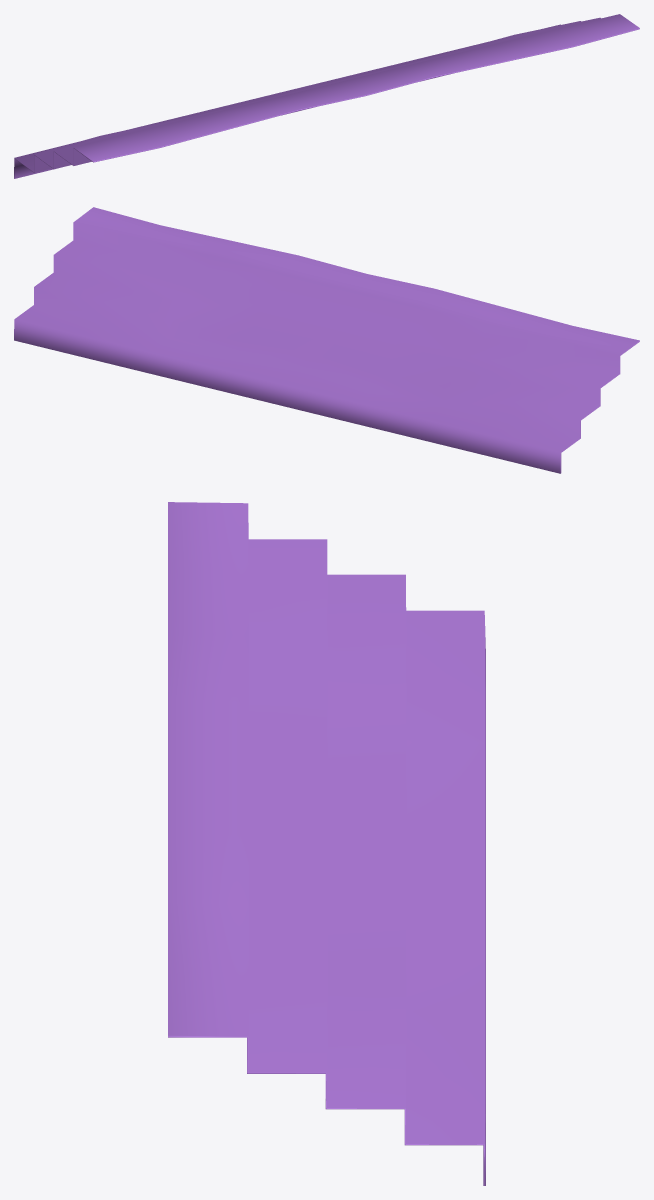
Rendered from Stairs_03_Lod0.fbx.
The picture shows the model from 3 angles, top to bottom: view 1: azimuth 30°, elevation 25°; view 2: azimuth 150°, elevation 25°; view 3: azimuth 270°, elevation 25°; orthographic projection. The views are drawn at different scales.
Visible parts, largest first — view 1: Stairs_03_Lod0; view 2: Stairs_03_Lod0; view 3: Stairs_03_Lod0.
Boxes of the visible parts, x1,y1,x2,y2 form: Stairs_03_Lod0: [14, 14, 639, 178]; Stairs_03_Lod0: [14, 207, 639, 473]; Stairs_03_Lod0: [168, 502, 485, 1185].
Bounding box in the file's own units: 600 × 80.77 × 151.
